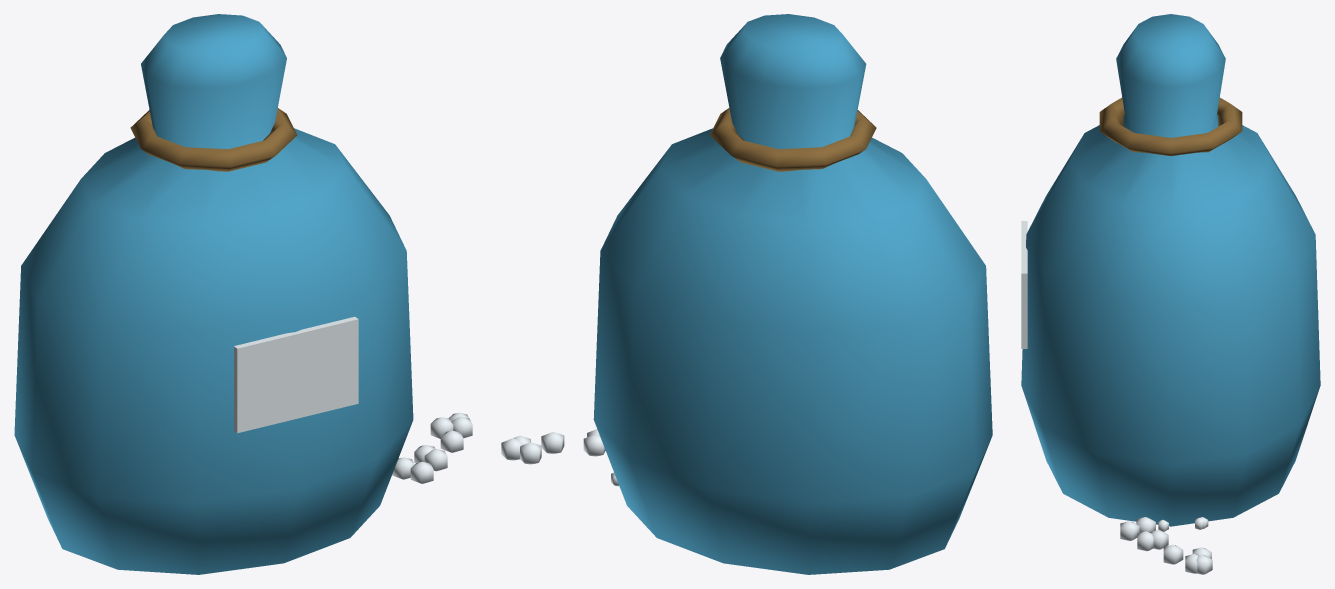
Rendered from Proc_Plastic.fbx.
3 renders of one model, left to right at view 1: azimuth 30°, elevation 25°; view 2: azimuth 150°, elevation 25°; view 3: azimuth 270°, elevation 25°, orthographic. The views are drawn at different scales.
Parts seen in each view (by area): view 1: Proc_Plastic__Stack; view 2: Proc_Plastic__Stack; view 3: Proc_Plastic__Stack.
Boxes of the visible parts, x1,y1,x2,y2 form: Proc_Plastic__Stack: [14, 14, 472, 574]; Proc_Plastic__Stack: [501, 14, 992, 574]; Proc_Plastic__Stack: [1021, 14, 1320, 574].
Bounding box in the file's own units: 0.27 × 0.272 × 0.1728.
